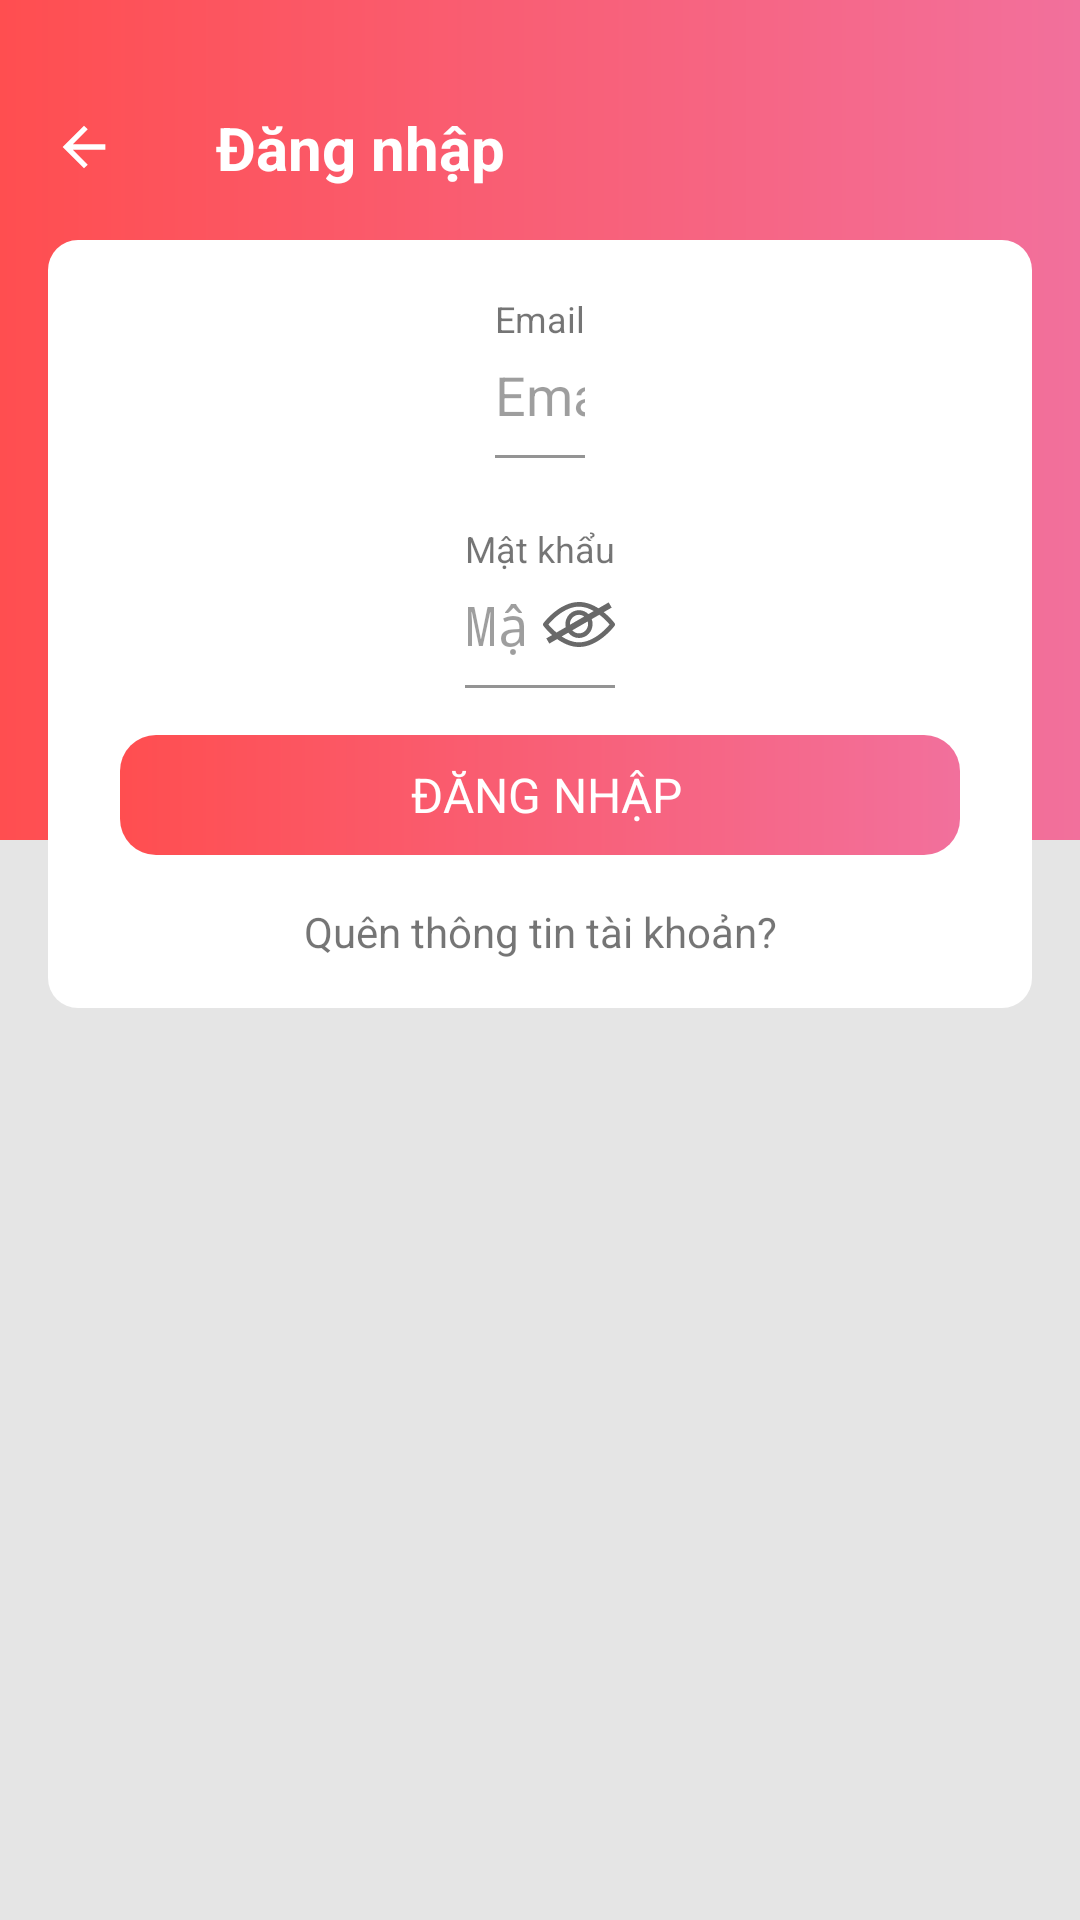

Icon click points for this 1080 x 1920 phone screenshot, format point (x, y):
arrow back: point (84, 147)
check show pass: point (579, 624)
